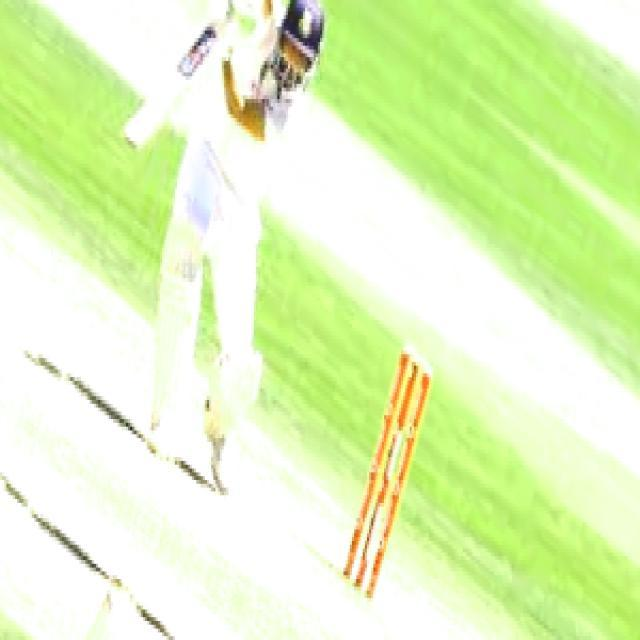bat: (103, 16, 233, 166)
toe: (110, 128, 151, 154)
